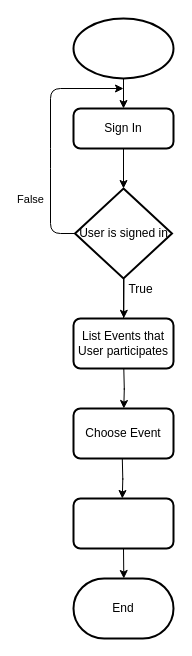
This 192x656 diagram has some shape labels left out. Each missing label, with the centre of its shape:
"Add Items or Invite Users" goes at (x=123, y=523).
"Start" goes at (x=123, y=48).
